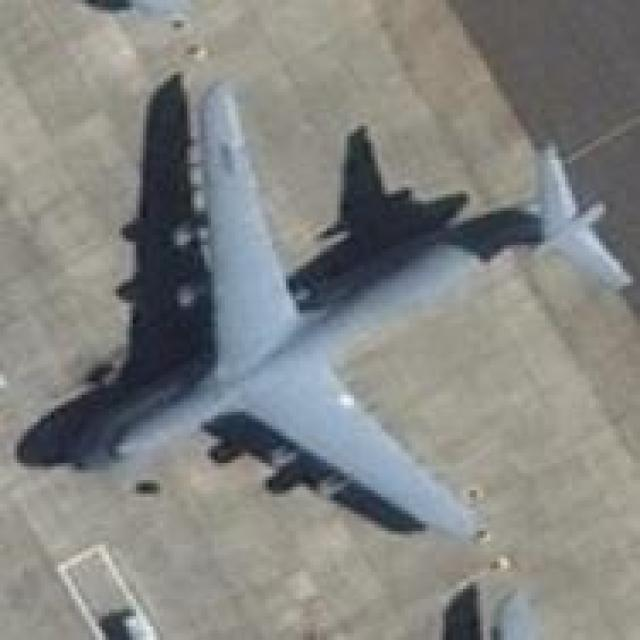C-5_TopDown: (70, 69, 634, 557)
